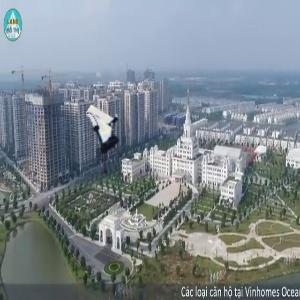drone: (72, 113, 142, 183)
